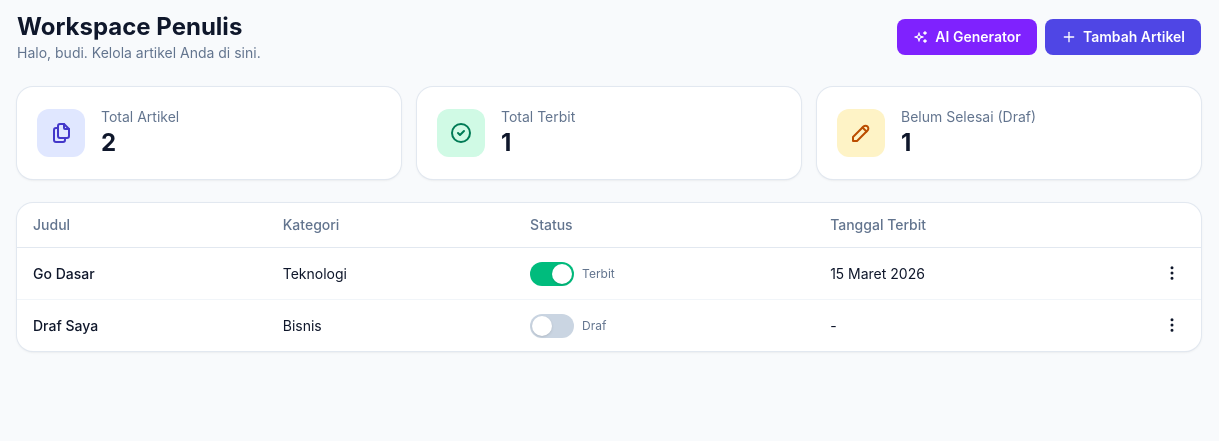
Test case: AuthorDashboard menu kebab › artikel terbit punya menu Lihat Artikel yang membuka halaman publik
This screenshot has width=1219, height=441.
Check: the text "Go Dasar" is shown, box [17,248,267,300]
Click the button named "Menu aksi Go Dasar".
click(1172, 273)  # box [1159,260,1185,286]
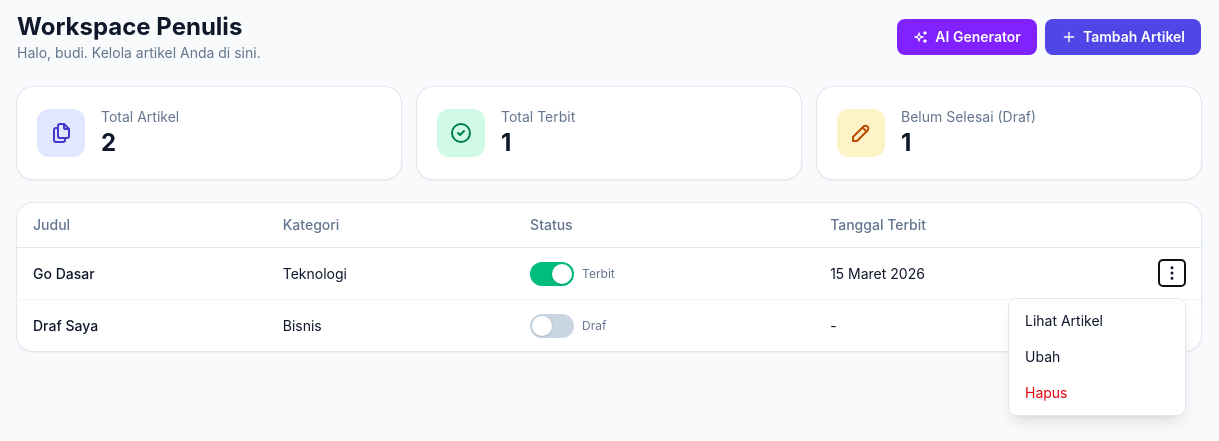
Check: the menu item "Ubah" is shown, box [1009,339,1185,375]
Check: the menu item "Hapus" is shown, box [1009,375,1185,411]
Click the menu item "Lihat Artikel".
click(1097, 321)  # box [1009,303,1185,339]
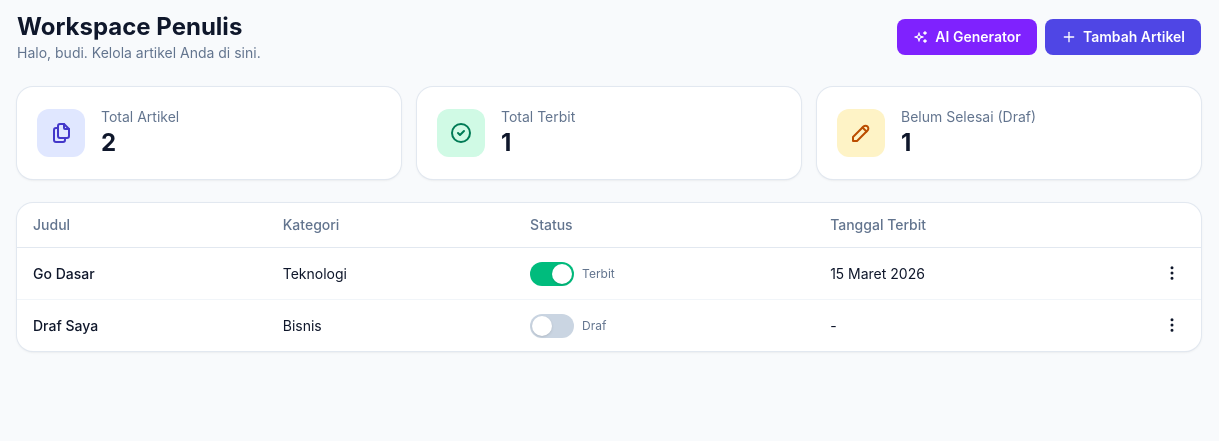
Check: the menu is gone
